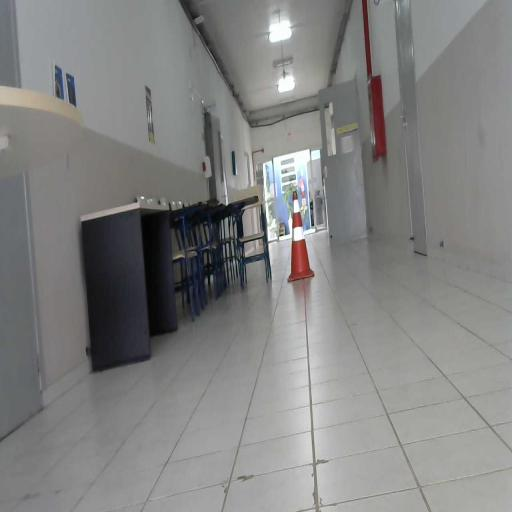cone: (288, 191, 314, 281)
